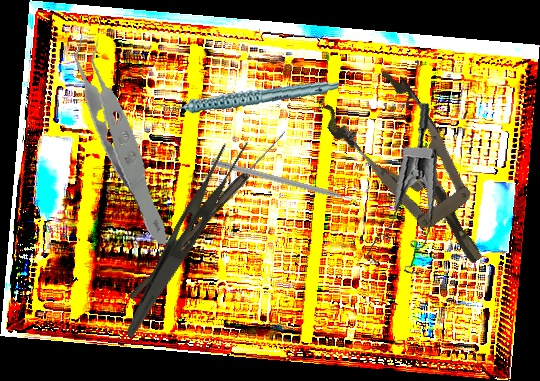Chopper: (208, 158, 365, 214)
Dressing Forceps: (123, 126, 253, 351)
Handpiece: (156, 62, 340, 130)
Speculum: (316, 59, 514, 288), (349, 101, 451, 282)
Surgical Spoon: (128, 127, 289, 304)
Tissue Forceps: (48, 23, 199, 246)
